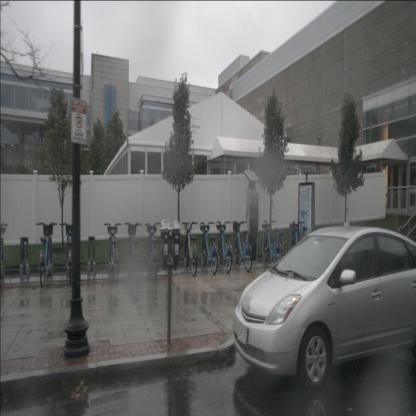vehicle-car: (232, 225, 416, 390)
